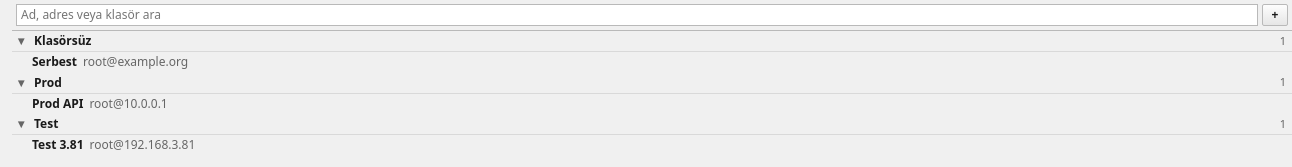
search filters by name, host and folder
Type "3.81" into the search field labelled "ara" at (637, 15), box 16,4 -> 1258,26
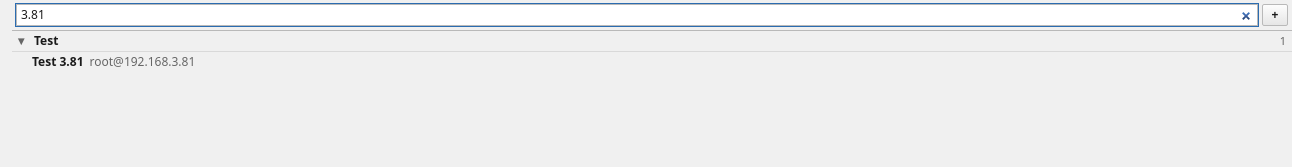
Expected: the text "Test 3.81" is shown, 32,54 -> 84,71
Now the button "Prod API" is gone
Replace the text in the search field named "ara" with "prod" at (637, 15), box 16,4 -> 1258,26
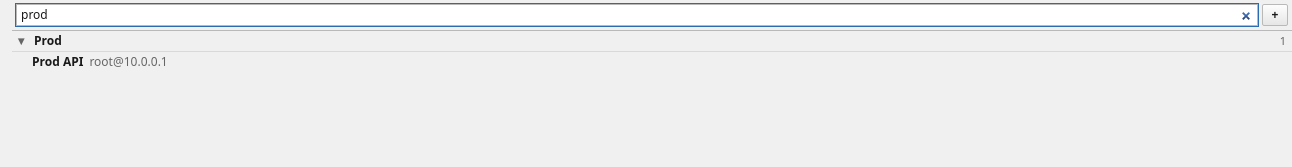
Expected: the button "Test 3.81" is not shown
Now the text "Prod API" is shown, box 32,54 -> 83,71
Replace the text in the search field named "ara" with "yokboyle" at (637, 15), box 16,4 -> 1258,26
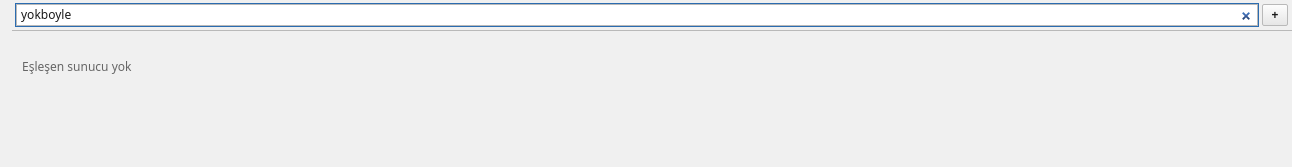
Now the text "Eşleşen sunucu yok" is shown, box 22,58 -> 131,75
